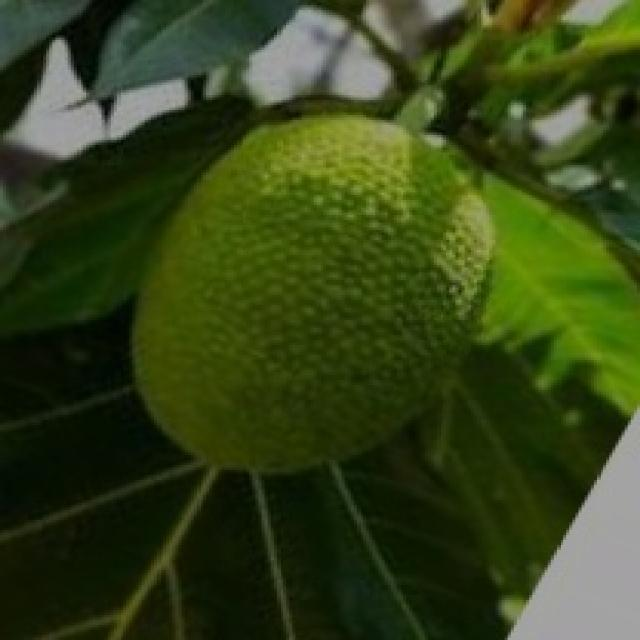Fruit: (142, 68, 544, 380)
